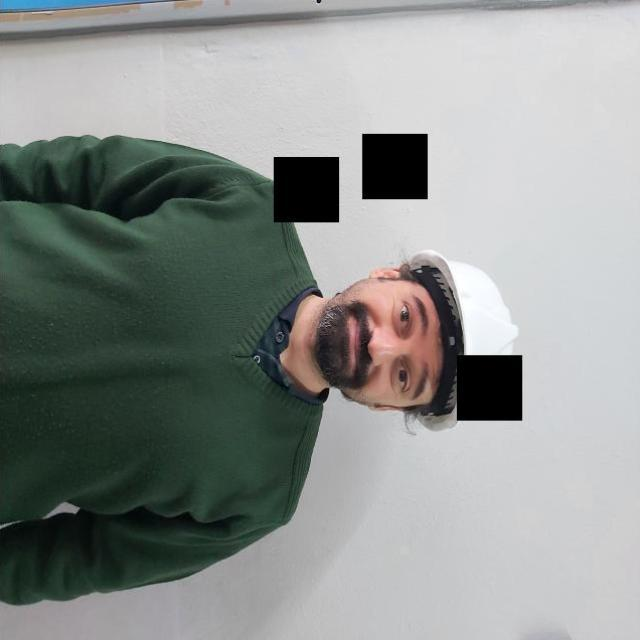helmet: (403, 248, 519, 431)
